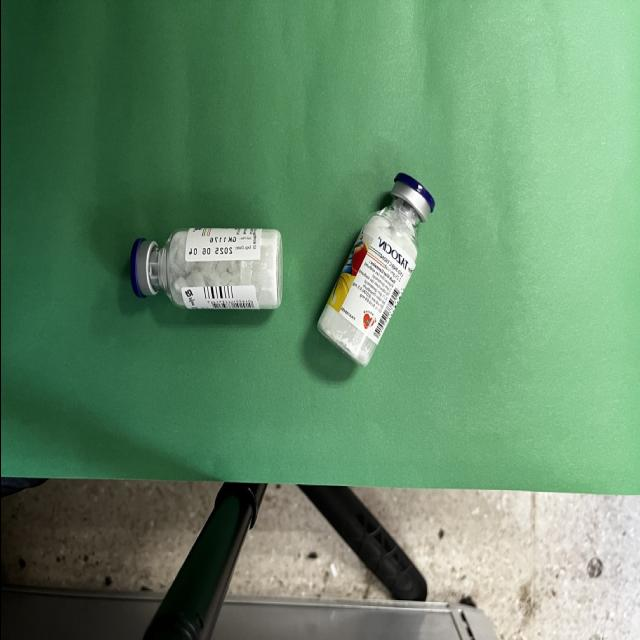Vials: (316, 173, 434, 367), (129, 229, 282, 309)
